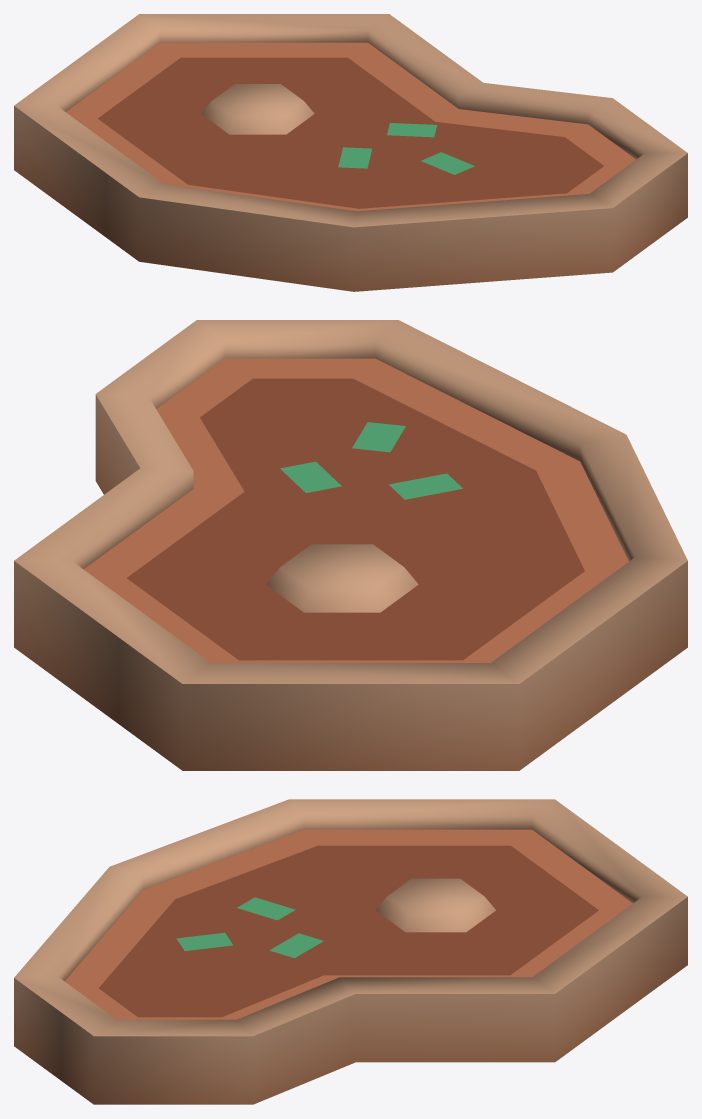
File: mystery-meat.glb
3 views of the same model, one above another, from view 1: azimuth 30°, elevation 25°; view 2: azimuth 150°, elevation 25°; view 3: azimuth 270°, elevation 25° (orthographic). The views are drawn at different scales.
Parts seen in each view (by area): view 1: mystery-meat; view 2: mystery-meat; view 3: mystery-meat.
Part boxes in pixels (x1=…): mystery-meat: x1=14, y1=14, x2=687, y2=291; mystery-meat: x1=14, y1=320, x2=687, y2=770; mystery-meat: x1=14, y1=799, x2=687, y2=1104.
Size of the model in its own units: 0.2495 by 0.0336 by 0.3.
